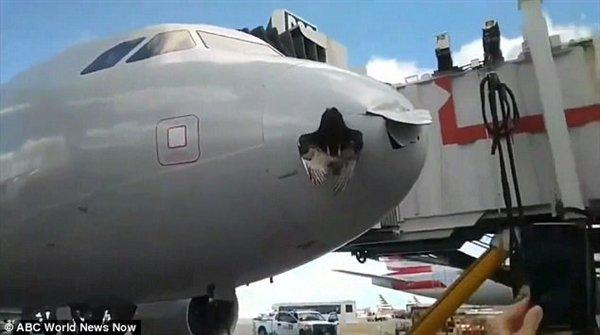airplane: (15, 20, 421, 317)
